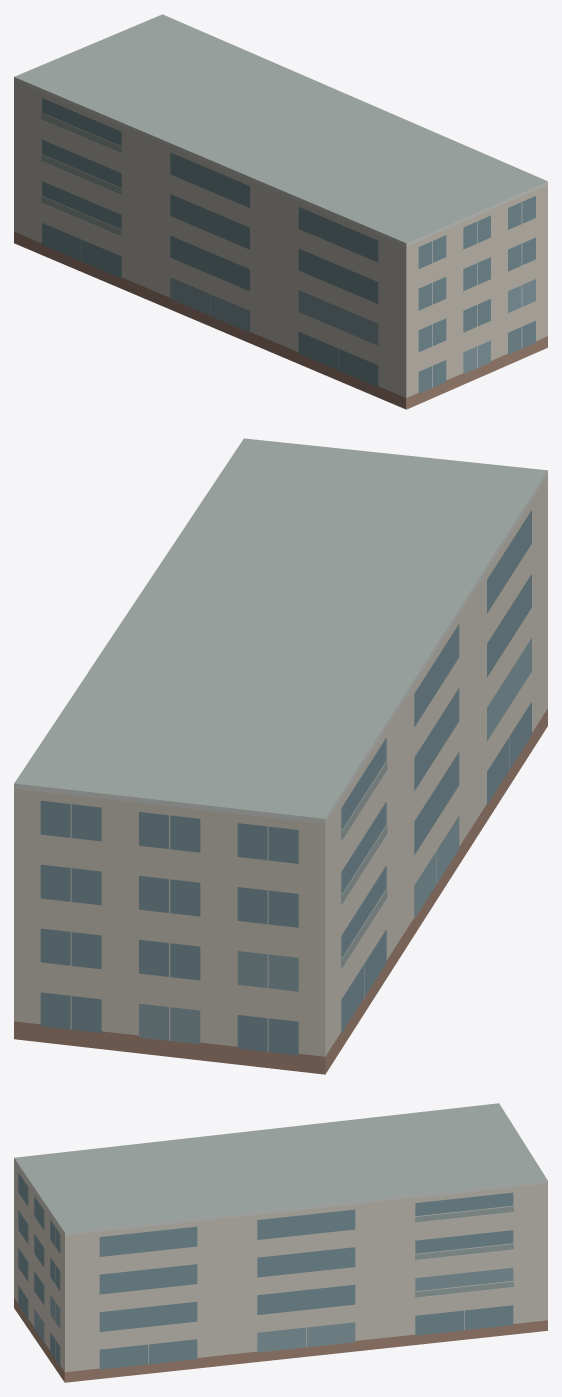
File: survey-upis-32650918.glb
The picture shows the model from 3 angles, top to bottom: view 1: azimuth 30°, elevation 25°; view 2: azimuth 150°, elevation 25°; view 3: azimuth 270°, elevation 25°; orthographic projection. The views are drawn at different scales.
Visible parts, largest first — view 1: survey-upis-32650918.tmp; view 2: survey-upis-32650918.tmp; view 3: survey-upis-32650918.tmp.
Part boxes in pixels (box(x1,y1,x2,y2)): survey-upis-32650918.tmp: box(14, 14, 547, 409); survey-upis-32650918.tmp: box(14, 438, 547, 1074); survey-upis-32650918.tmp: box(14, 1103, 547, 1382).
Size of the model in its own units: 22.53 by 12.2 by 39.3.
